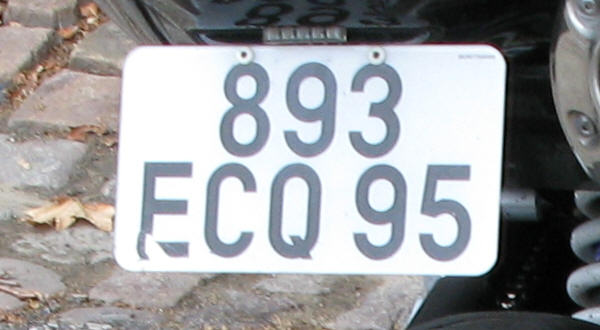license_plate: (112, 43, 506, 275)
